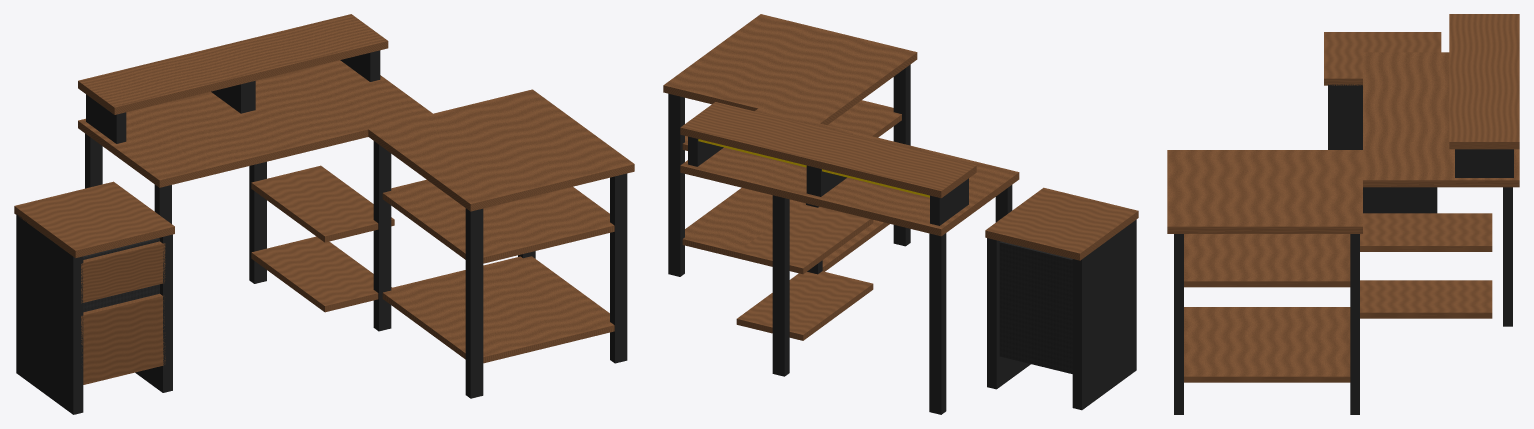
3 renders of one model, left to right at view 1: azimuth 30°, elevation 25°; view 2: azimuth 150°, elevation 25°; view 3: azimuth 270°, elevation 25°, orthographic. The views are drawn at different scales.
Parts seen in each view (by area): view 1: 7 main_desktop, 16 return_desktop, 22 shelf_lower, 8 monitor_riser, 2 cabinet_frame_left, 21 shelf_upper, 1 cabinet_top, 5 drawer_bottom, 23 inner_shelf_mid, 24 inner_shelf_low, 4 drawer_top, 17 return_leg_front_left (+10 smaller); view 2: 16 return_desktop, 8 monitor_riser, 7 main_desktop, 2 cabinet_frame_left, 6 drawer_body, 1 cabinet_top, 22 shelf_lower, 24 inner_shelf_low, 23 inner_shelf_mid, 14 desk_leg_left_back, 15 desk_leg_mid_back, 19 return_leg_back_right (+8 smaller); view 3: 16 return_desktop, 7 main_desktop, 22 shelf_lower, 8 monitor_riser, 21 shelf_upper, 24 inner_shelf_low, 23 inner_shelf_mid, 3 cabinet_frame_right, 1 cabinet_top, 18 return_leg_front_right, 19 return_leg_back_right, 11 riser_leg_right (+1 smaller).
Part boxes in pixels (left/top/right/bottom): 7 main_desktop: left=78, top=60, right=432, bottom=187; 16 return_desktop: left=368, top=89, right=634, bottom=211; 22 shelf_lower: left=382, top=256, right=614, bottom=363; 8 monitor_riser: left=78, top=14, right=388, bottom=114; 2 cabinet_frame_left: left=16, top=214, right=83, bottom=414; 21 shelf_upper: left=382, top=179, right=614, bottom=263; 1 cabinet_top: left=14, top=181, right=174, bottom=258; 5 drawer_bottom: left=81, top=293, right=165, bottom=384; 23 inner_shelf_mid: left=251, top=165, right=394, bottom=242; 24 inner_shelf_low: left=251, top=236, right=391, bottom=312; 4 drawer_top: left=81, top=241, right=165, bottom=303; 17 return_leg_front_left: left=465, top=208, right=483, bottom=398; 16 return_desktop: left=663, top=14, right=917, bottom=125; 8 monitor_riser: left=680, top=102, right=976, bottom=198; 7 main_desktop: left=680, top=108, right=1019, bottom=236; 2 cabinet_frame_left: left=1072, top=219, right=1136, bottom=410; 6 drawer_body: left=999, top=241, right=1072, bottom=373; 1 cabinet_top: left=985, top=187, right=1138, bottom=260; 22 shelf_lower: left=682, top=188, right=889, bottom=271; 24 inner_shelf_low: left=736, top=271, right=873, bottom=340; 23 inner_shelf_mid: left=736, top=203, right=873, bottom=274; 14 desk_leg_left_back: left=929, top=233, right=946, bottom=414; 15 desk_leg_mid_back: left=772, top=195, right=789, bottom=376; 19 return_leg_back_right: left=668, top=93, right=684, bottom=276; 16 return_desktop: left=1167, top=150, right=1362, bottom=233; 7 main_desktop: left=1363, top=52, right=1519, bottom=187; 22 shelf_lower: left=1184, top=307, right=1350, bottom=382; 8 monitor_riser: left=1449, top=14, right=1519, bottom=149; 21 shelf_upper: left=1184, top=234, right=1350, bottom=287; 24 inner_shelf_low: left=1360, top=280, right=1492, bottom=318; 23 inner_shelf_mid: left=1360, top=213, right=1492, bottom=251; 3 cabinet_frame_right: left=1328, top=84, right=1437, bottom=213; 1 cabinet_top: left=1324, top=32, right=1441, bottom=85; 18 return_leg_front_right: left=1174, top=234, right=1183, bottom=414; 19 return_leg_back_right: left=1350, top=234, right=1359, bottom=414; 11 riser_leg_right: left=1455, top=149, right=1513, bottom=177.
Bounding box in the file's own units: 2.1 × 1 × 1.4.
Materials: 4 (2 with a texture image).
